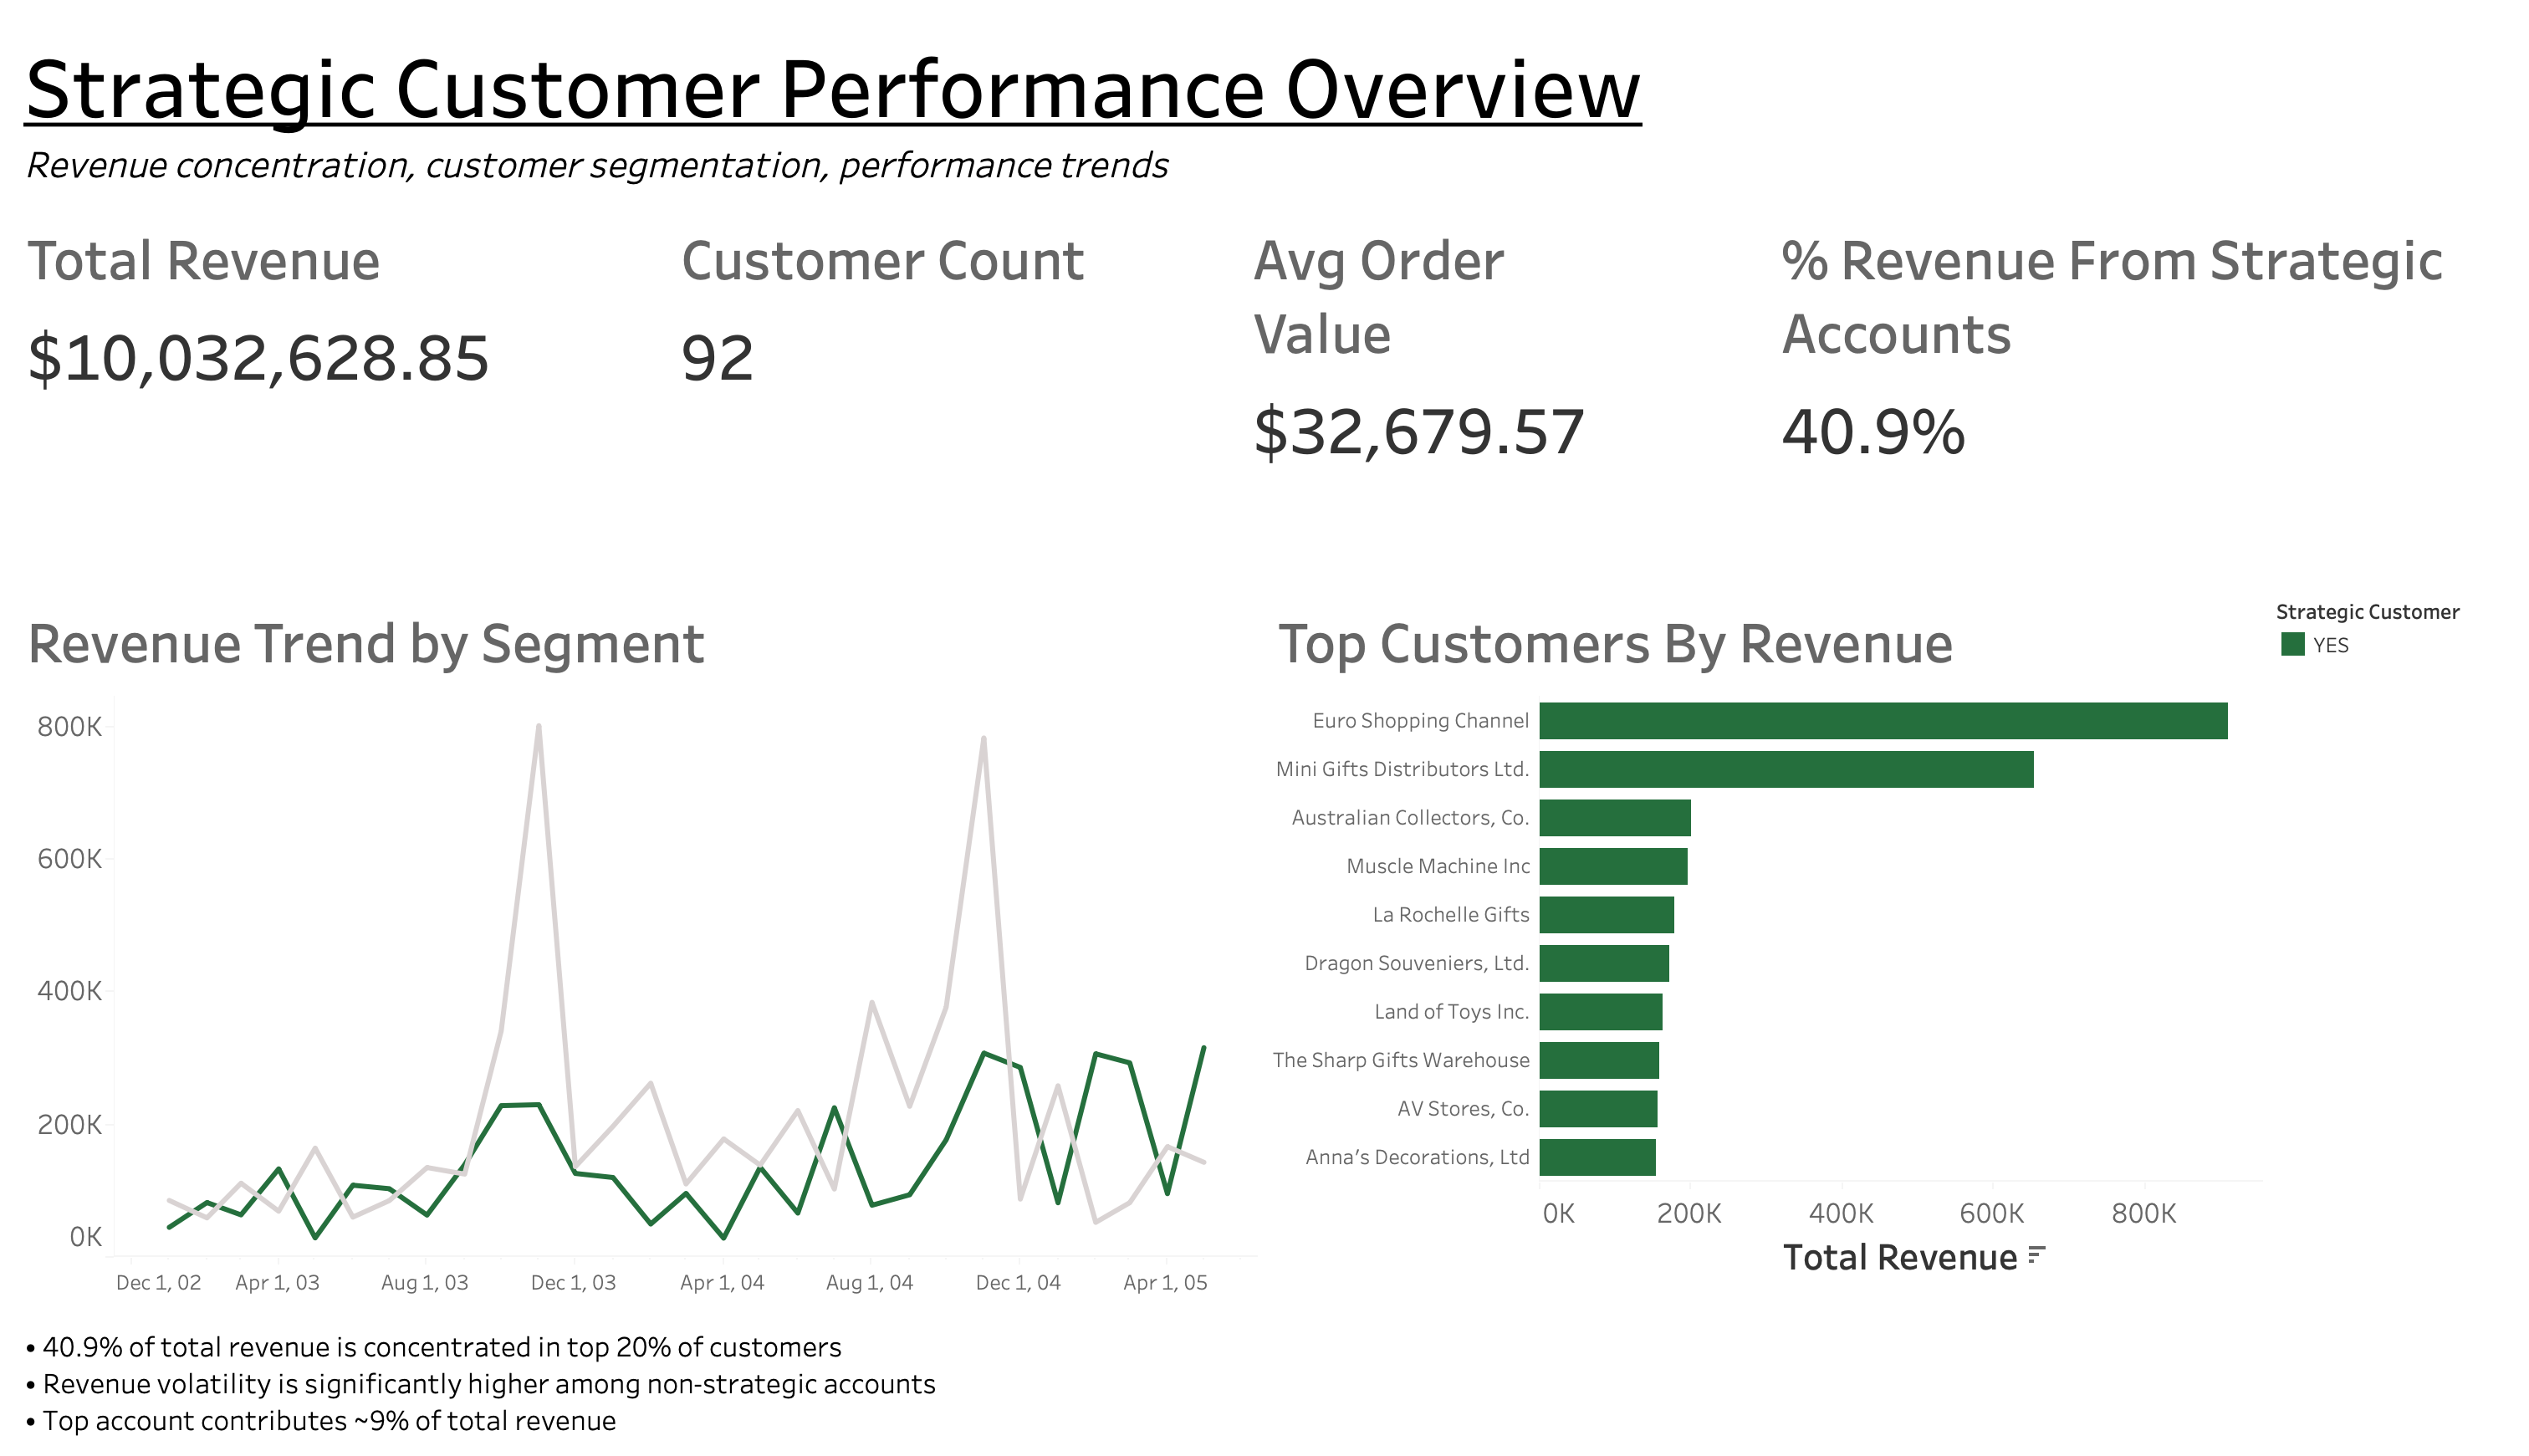

The dashboard page shown, as its layout file describes it:
{"tool":"tableau","page":{"name":"KPI Dashboard","canvas":[1000,1000],"units":"permille","ordinal":0},"visuals":[{"type":"text","box":[6.2,9.8,987.7,132.7]},{"type":"worksheet","title":"KPI - Total Revenue","mark":"Automatic","box":[6.2,142.5,258.2,144.4]},{"type":"worksheet","title":"KPI - Customer Count","mark":"Automatic","box":[264.4,142.5,226,260.2]},{"type":"worksheet","title":"KPI - Avg Order Value","mark":"Automatic","box":[490.4,142.5,208.3,260.2]},{"type":"worksheet","title":"KPI - % Strategic Revenue","mark":"Automatic","box":[698.7,142.5,295.2,260.2]},{"type":"worksheet","title":"Revenue Trend by Segment","mark":"Line","rows":["SALES"],"cols":["YEARMONTH"],"box":[6.2,402.7,493.9,490.8]},{"type":"worksheet","title":"Top Customers By Revenue","mark":"Automatic","rows":["CUSTOMERNAME"],"cols":["SALES"],"box":[500,402.7,397,587.6]},{"type":"legend","title":"Top Customers By Revenue","param":"[federated.0q5wczb0r7sxqc11tvvpd15mh0nv].[none:Strategic Customer:nk]","box":[897,402.7,96.9,56.3]},{"type":"text","box":[6.2,893.5,493.9,96.7]}]}

Visuals, with their boxes on the dashboard's canvas, which has no fixed pixel size, in thousandths of its width and height (x1, y1, x2, y2). These are canvas units, not pixel positions in the 2529x1456 screenshot, which may show the page scaled, cropped or inside an application window:
text: {"x1": 6, "y1": 10, "x2": 994, "y2": 142}
"KPI - Total Revenue" worksheet: {"x1": 6, "y1": 142, "x2": 264, "y2": 287}
"KPI - Customer Count" worksheet: {"x1": 264, "y1": 142, "x2": 490, "y2": 403}
"KPI - Avg Order Value" worksheet: {"x1": 490, "y1": 142, "x2": 699, "y2": 403}
"KPI - % Strategic Revenue" worksheet: {"x1": 699, "y1": 142, "x2": 994, "y2": 403}
"Revenue Trend by Segment" worksheet (Line marks): {"x1": 6, "y1": 403, "x2": 500, "y2": 894}
"Top Customers By Revenue" worksheet: {"x1": 500, "y1": 403, "x2": 897, "y2": 990}
"Top Customers By Revenue" legend: {"x1": 897, "y1": 403, "x2": 994, "y2": 459}
text: {"x1": 6, "y1": 894, "x2": 500, "y2": 990}
